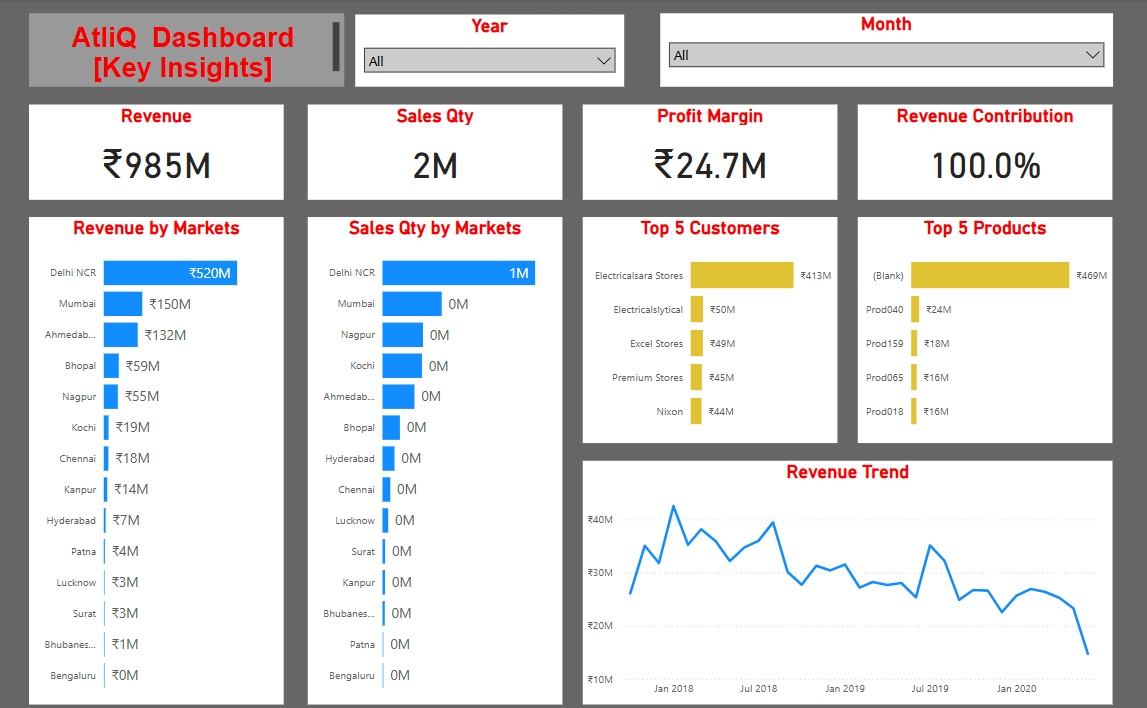

What the dashboard file says about the page in this screenshot:
{"tool":"powerbi","page":{"name":"Key Insights","canvas":[1350,850],"ordinal":0},"visuals":[{"type":"card","title":"Revenue ","fields":{"Values":["BaseMeasures (2).Revenue"]},"box":[35.2,120.4,299.6,111.6],"z":0},{"type":"card","title":"Sales Qty","fields":{"Values":["BaseMeasures (2).Sales Qty"]},"box":[362.7,120.4,299.6,111.6],"z":1000},{"type":"barChart","title":"Revenue by Markets","fields":{"Y":["BaseMeasures (2).Revenue"],"Category":["sales markets.markets_name"]},"box":[35.2,252.6,299.6,572.7],"z":2000},{"type":"barChart","title":"Sales Qty by Markets","fields":{"Y":["BaseMeasures (2).Sales Qty"],"Category":["sales markets.markets_name"]},"box":[362.7,252.6,299.6,572.7],"z":3000},{"type":"slicer","title":"Year","fields":{"Values":["sales date.year"]},"box":[418.5,14.7,315.7,85.2],"z":4000},{"type":"slicer","title":"Month","fields":{"Values":["sales date.cy_date"]},"box":[776.9,13.2,531.6,86.6],"z":5000},{"type":"barChart","title":"Top 5 Customers","fields":{"Y":["BaseMeasures (2).Revenue"],"Category":["sales customers.custmer_name"]},"box":[685.8,252.6,299.6,265.8],"z":6000},{"type":"barChart","title":"Top 5 Products","fields":{"Y":["BaseMeasures (2).Revenue"],"Category":["sales products.product_code"]},"box":[1008.9,252.6,299.6,265.8],"z":7000},{"type":"lineChart","title":"Revenue Trend","fields":{"Y":["BaseMeasures (2).Revenue"],"Category":["sales date.cy_date"]},"box":[685.8,539,622.7,286.4],"z":8000},{"type":"textbox","box":[35.2,13.2,370.1,86.6],"z":8001},{"type":"card","title":"Profit Margin","fields":{"Values":["BaseMeasures (2).Total Profit Margin"]},"box":[685.8,120.4,299.6,111.6],"z":8002},{"type":"card","title":"Revenue Contribution","fields":{"Values":["BaseMeasures (2).Revenue Contribution %"]},"box":[1008.9,120.4,299.6,111.6],"z":8003}]}

Visuals, with their boxes in screenshot pixels (x1, y1, x2, y2), scaled from the page's 1350x850 canvas onto the 1147x708 screenshot:
"Revenue " card: rect(30, 100, 284, 193)
"Sales Qty" card: rect(308, 100, 563, 193)
"Revenue by Markets" barChart: rect(30, 210, 284, 687)
"Sales Qty by Markets" barChart: rect(308, 210, 563, 687)
"Year" slicer: rect(356, 12, 624, 83)
"Month" slicer: rect(660, 11, 1112, 83)
"Top 5 Customers" barChart: rect(583, 210, 837, 432)
"Top 5 Products" barChart: rect(857, 210, 1112, 432)
"Revenue Trend" lineChart: rect(583, 449, 1112, 688)
textbox: rect(30, 11, 344, 83)
"Profit Margin" card: rect(583, 100, 837, 193)
"Revenue Contribution" card: rect(857, 100, 1112, 193)
